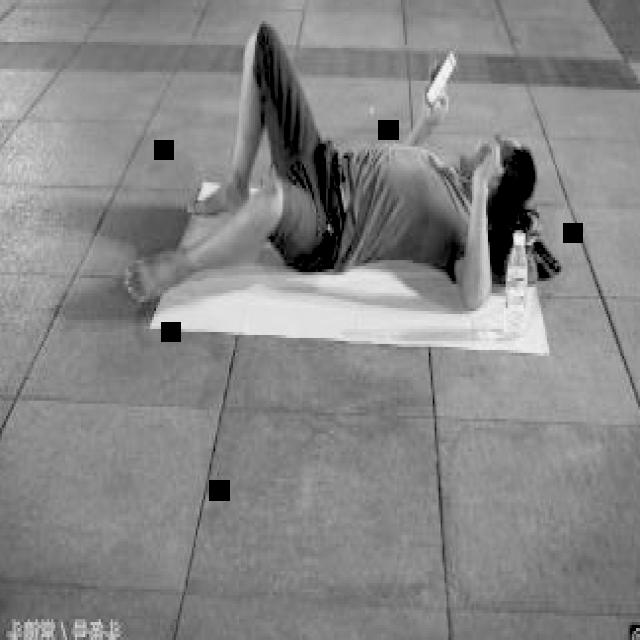Fall-Detected: (113, 6, 553, 308)
